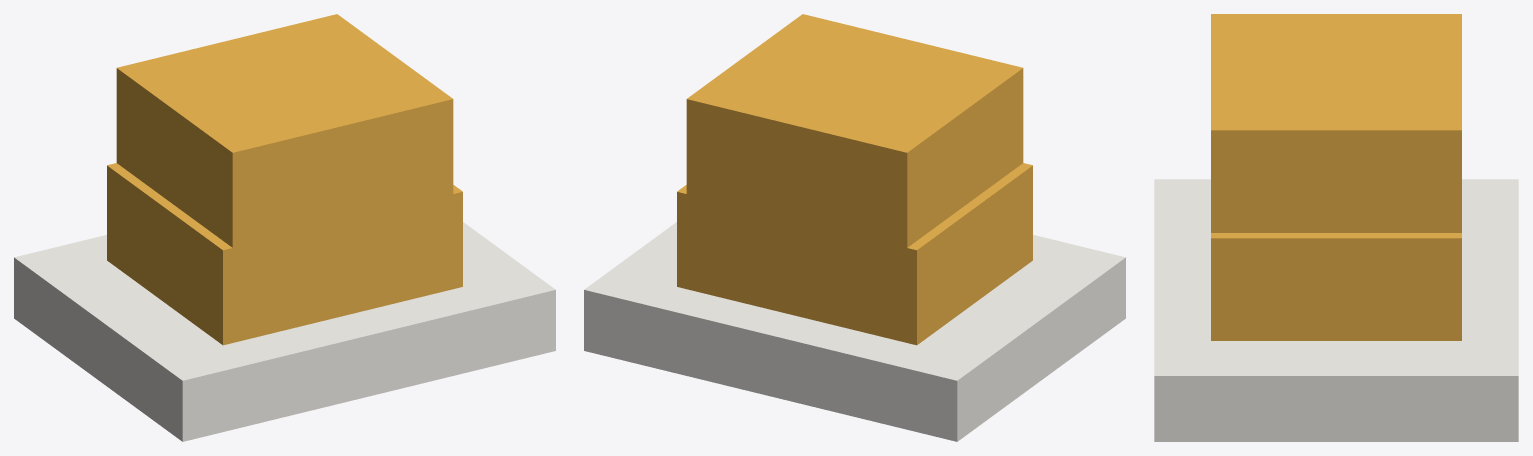
Rendered from kitchen_table-lv2.glb.
3 renders of one model, left to right at view 1: azimuth 30°, elevation 25°; view 2: azimuth 150°, elevation 25°; view 3: azimuth 270°, elevation 25°, orthographic. The views are drawn at different scales.
Visible parts, largest first — view 1: Level2, Base, Level1; view 2: Level2, Base, Level1; view 3: Base, Level2, Level1.
Boxes of the visible parts, <box> form: Level2: <box>116,14,453,247</box>; Base: <box>14,222,555,441</box>; Level1: <box>107,163,462,345</box>; Level2: <box>686,14,1023,247</box>; Base: <box>584,222,1125,441</box>; Level1: <box>677,163,1032,345</box>; Base: <box>1154,179,1518,441</box>; Level2: <box>1211,14,1461,232</box>; Level1: <box>1211,233,1461,340</box>.
Bounding box in the file's own units: 1.15 × 0.74 × 0.9.
